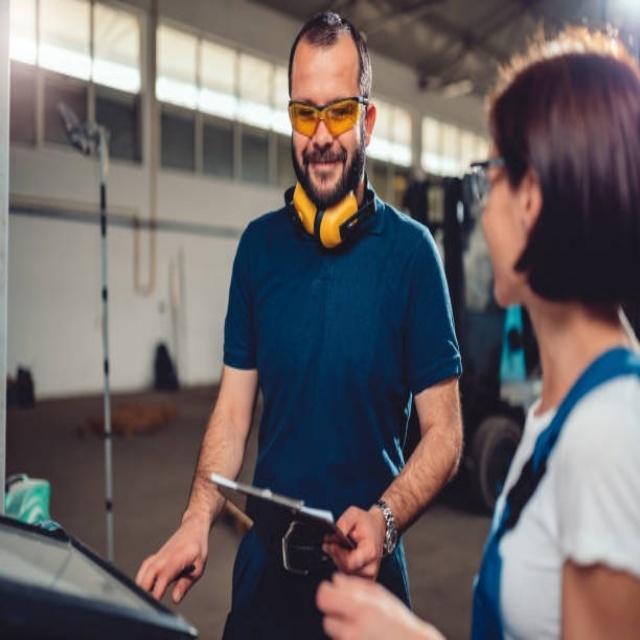Gafas: (288, 97, 371, 138), (463, 162, 507, 211)
Sin_guantes: (314, 573, 445, 640), (134, 510, 216, 596), (320, 503, 389, 581)
Sin_mascara: (302, 151, 344, 190)
